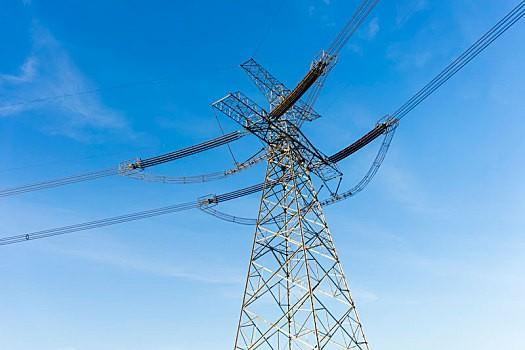power_tower: (209, 52, 378, 350)
